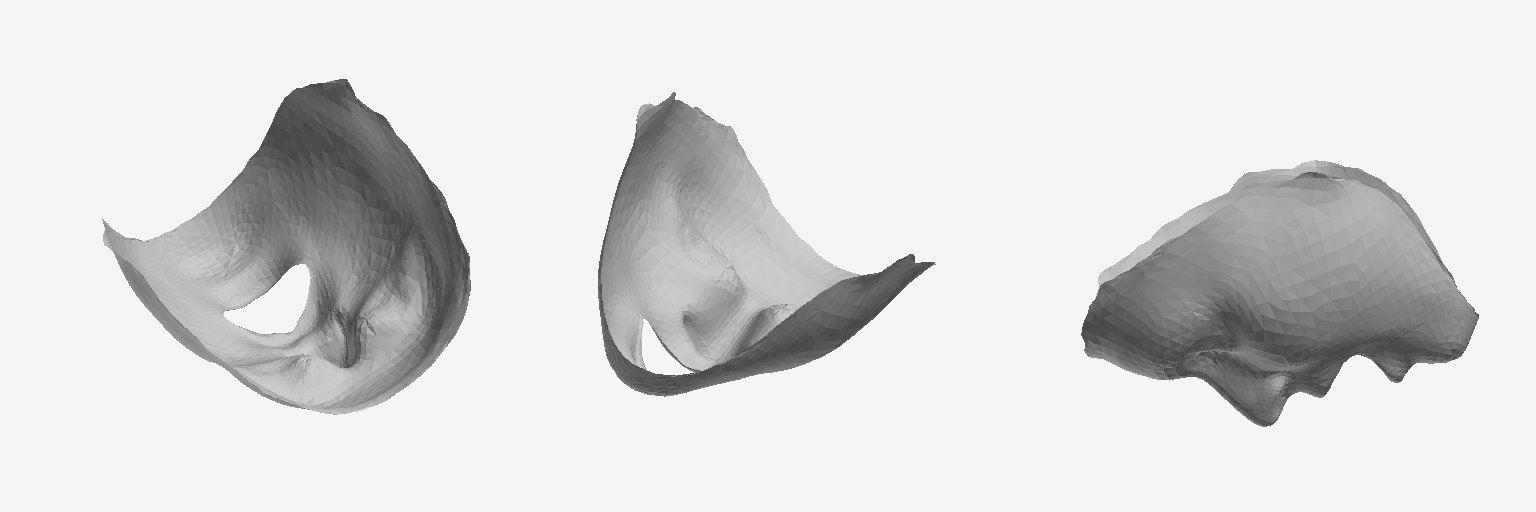
The model's file is face_gab_sfm70.obj.
The picture shows the model from 3 angles: view 1: azimuth 30°, elevation 25°; view 2: azimuth 150°, elevation 25°; view 3: azimuth 270°, elevation 25°; orthographic projection.
Bounding box in the file's own units: 167 × 164 × 215.